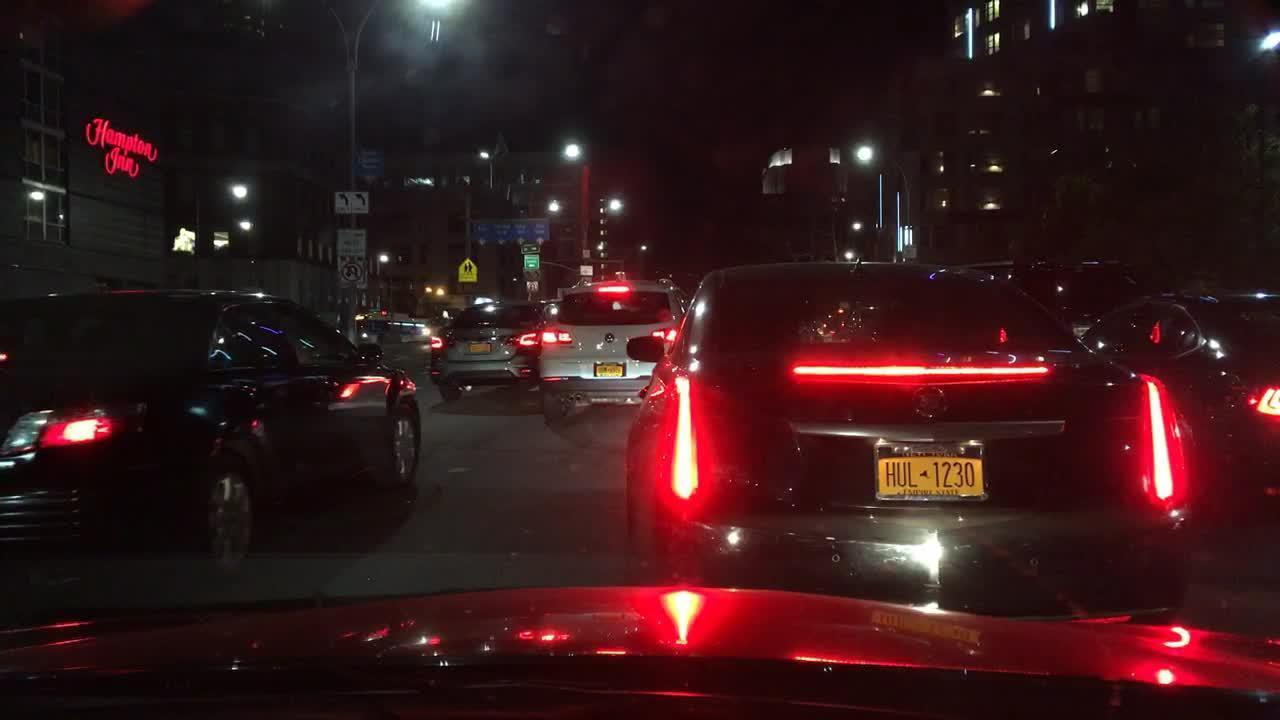Mitsubishi: (602, 329, 618, 346)
cadillac: (907, 378, 958, 426)
